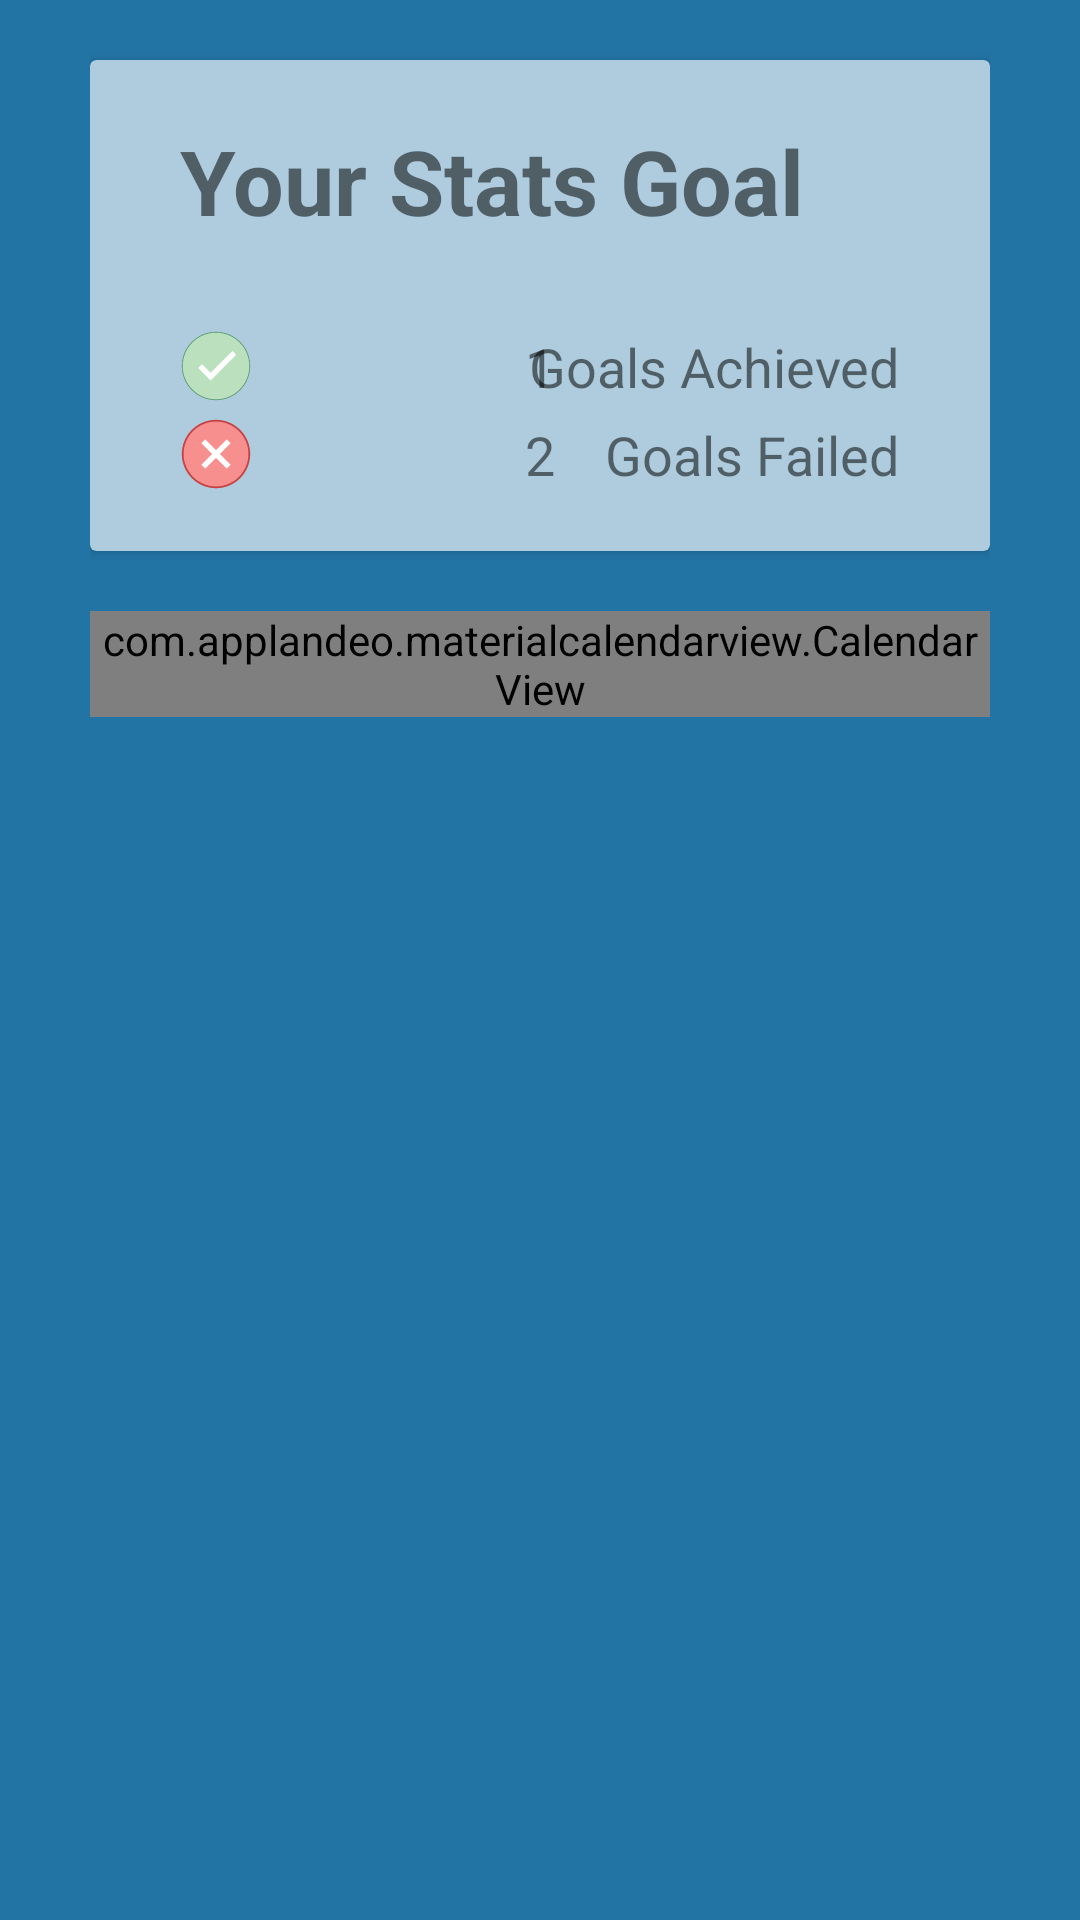

Named icons in this screenshot (1080w x 1920h) and their bounding boxes, [x1=x1, y1=y1, x2=x2, y2=y2]:
check: [x1=181, y1=331, x2=251, y2=401]
clear: [x1=181, y1=419, x2=251, y2=489]
